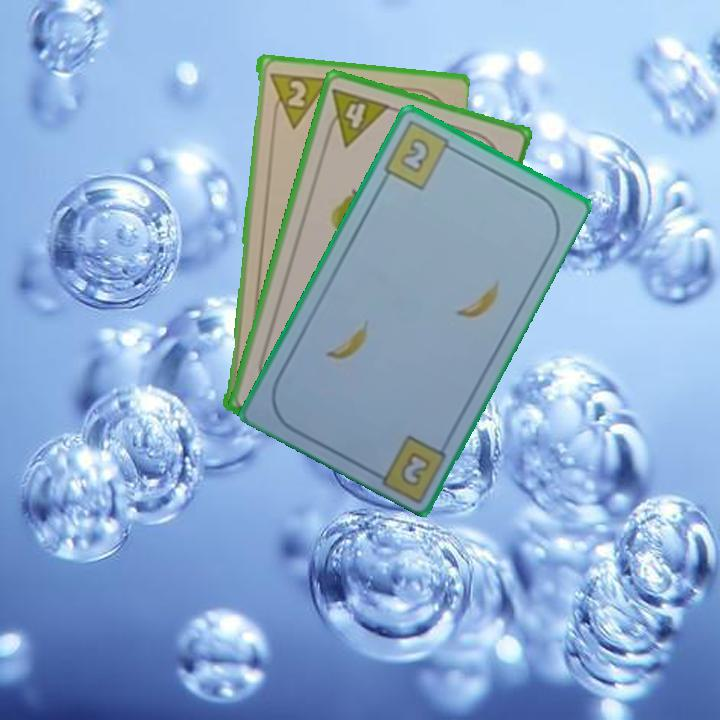2b: (380, 118, 462, 193), (397, 447, 434, 489)
2p: (265, 68, 328, 130)
4p: (320, 84, 393, 150)
